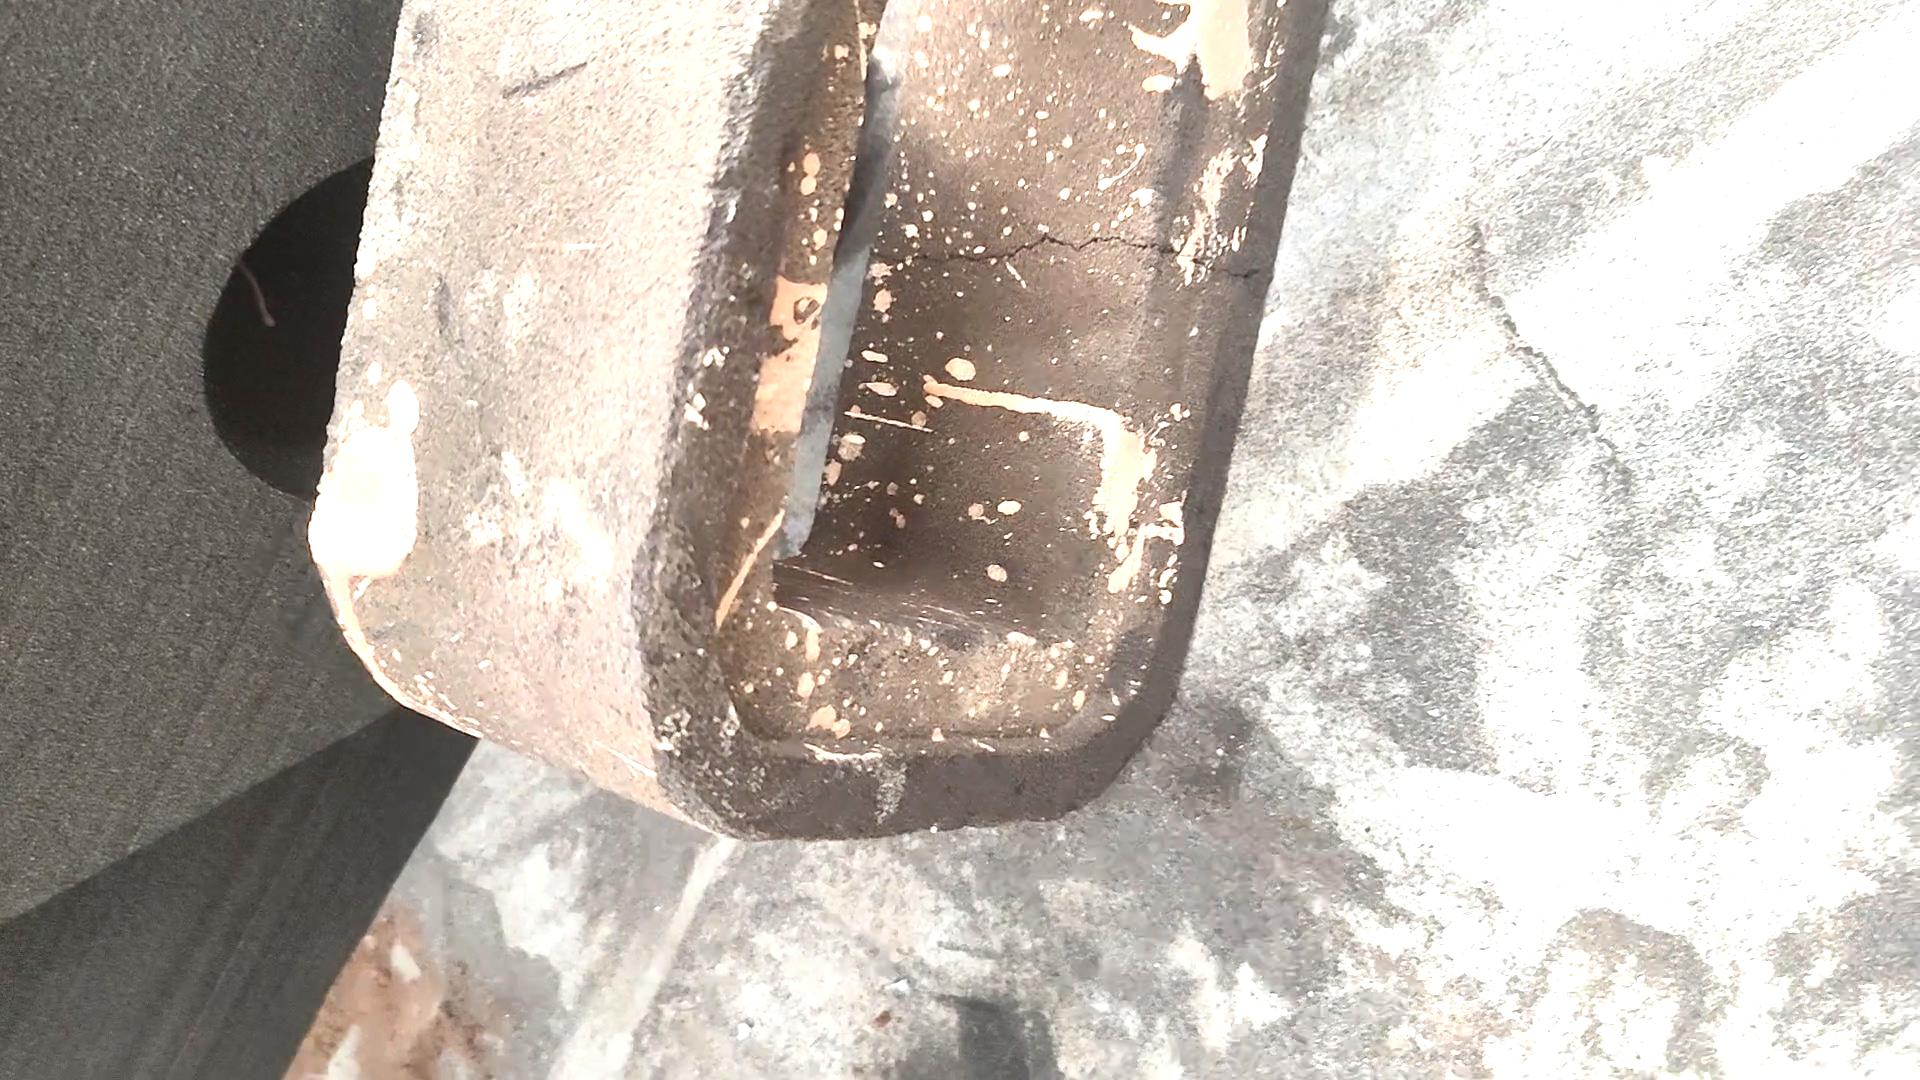pouring hole: (200, 152, 465, 502)
